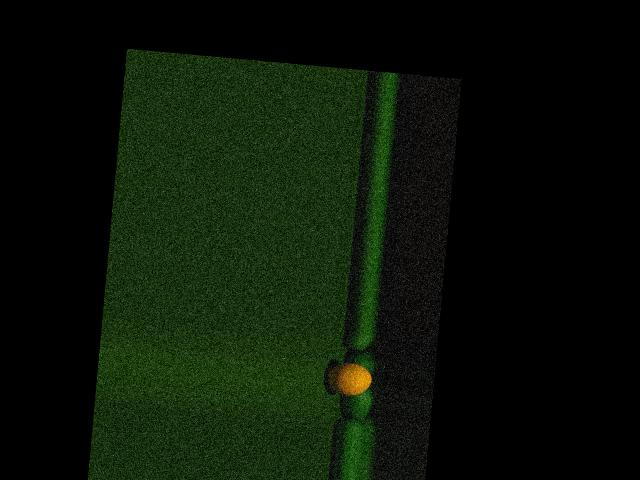egg: (326, 361, 372, 398)
